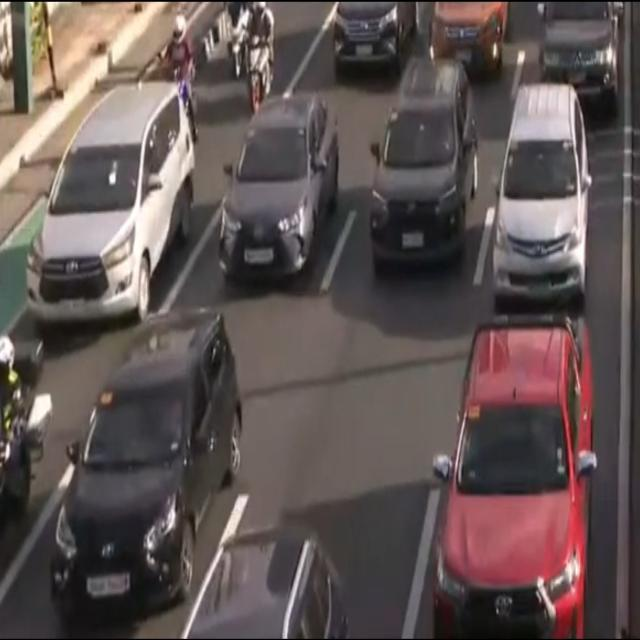Motorcycle: (0, 329, 51, 535), (159, 12, 199, 157), (246, 0, 276, 120)
SUV: (48, 314, 241, 618), (431, 312, 595, 638), (22, 83, 192, 323), (490, 83, 589, 304), (372, 61, 474, 270), (175, 533, 347, 640), (528, 0, 627, 119), (425, 0, 506, 81), (333, 0, 409, 86)
Sedan: (213, 96, 339, 288)
